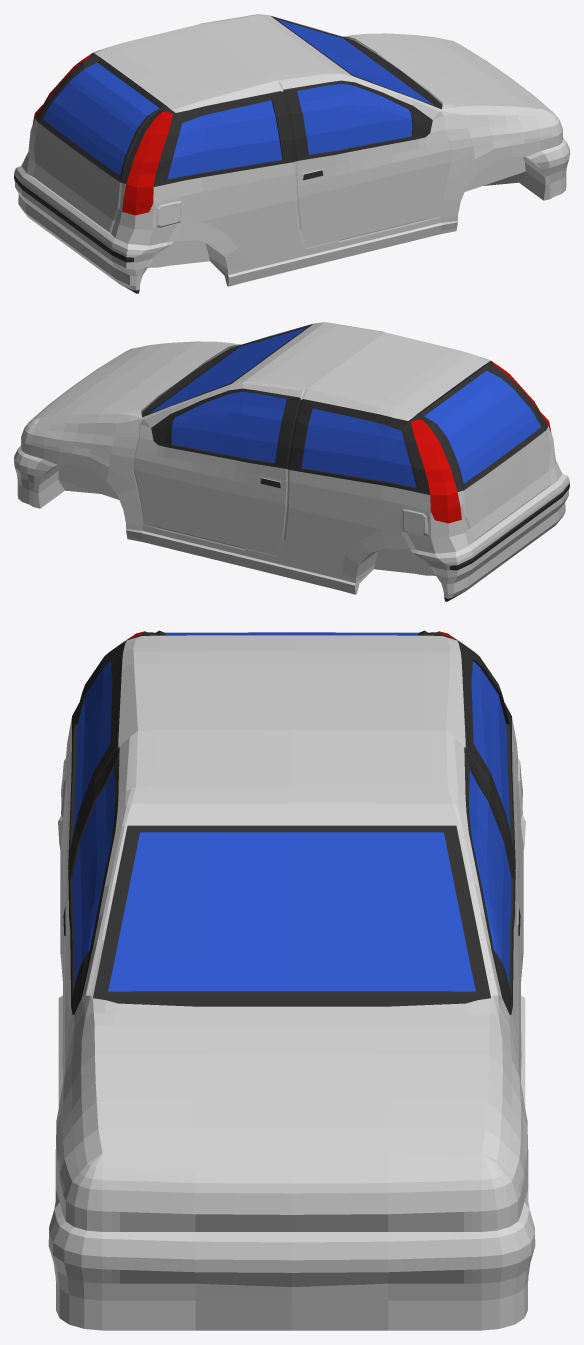
File: Fiat Punto 85.fbx
The picture shows the model from 3 angles, top to bottom: view 1: azimuth 30°, elevation 25°; view 2: azimuth 150°, elevation 25°; view 3: azimuth 270°, elevation 25°; orthographic projection. The views are drawn at different scales.
Parts seen in each view (by area): view 1: Car; view 2: Car; view 3: Car.
Boxes of the visible parts, <box> form: Car: <box>14,14,569,293</box>; Car: <box>14,322,569,601</box>; Car: <box>48,630,535,1330</box>.
Bounding box in the file's own units: 1568 × 579 × 723.
